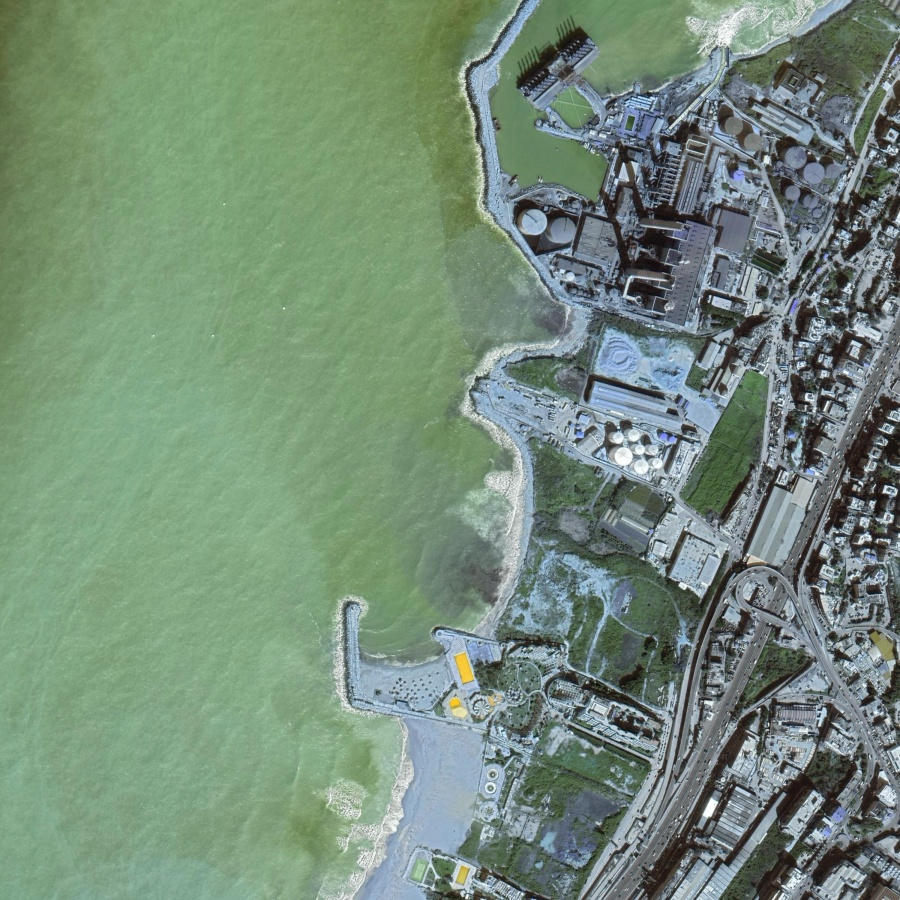PowerPlant: (505, 41, 850, 472)
